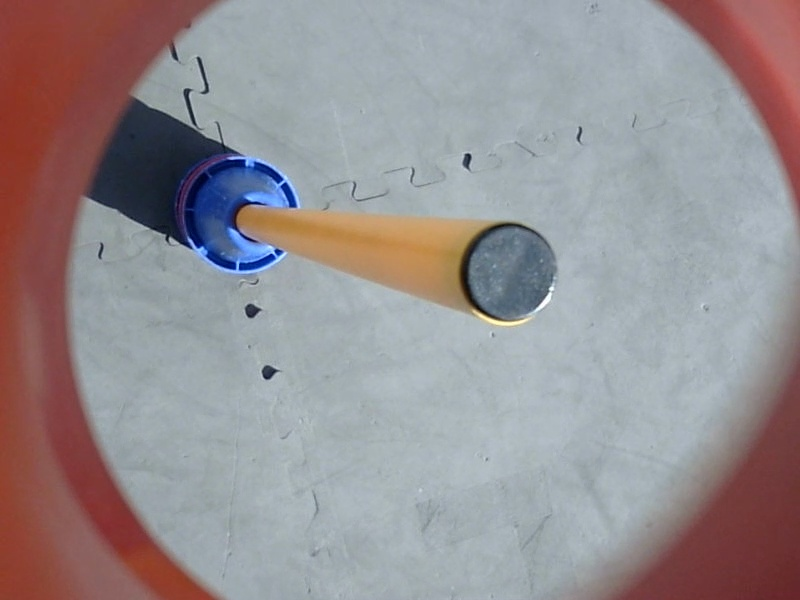tip: (454, 214, 565, 332)
